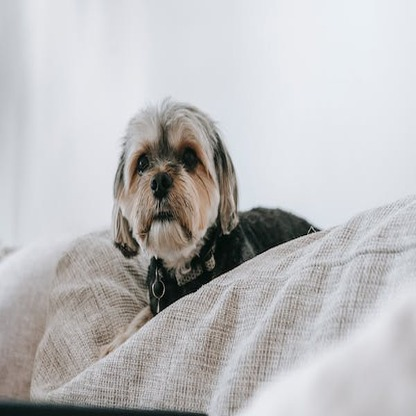yorkshire: (106, 100, 316, 305)
